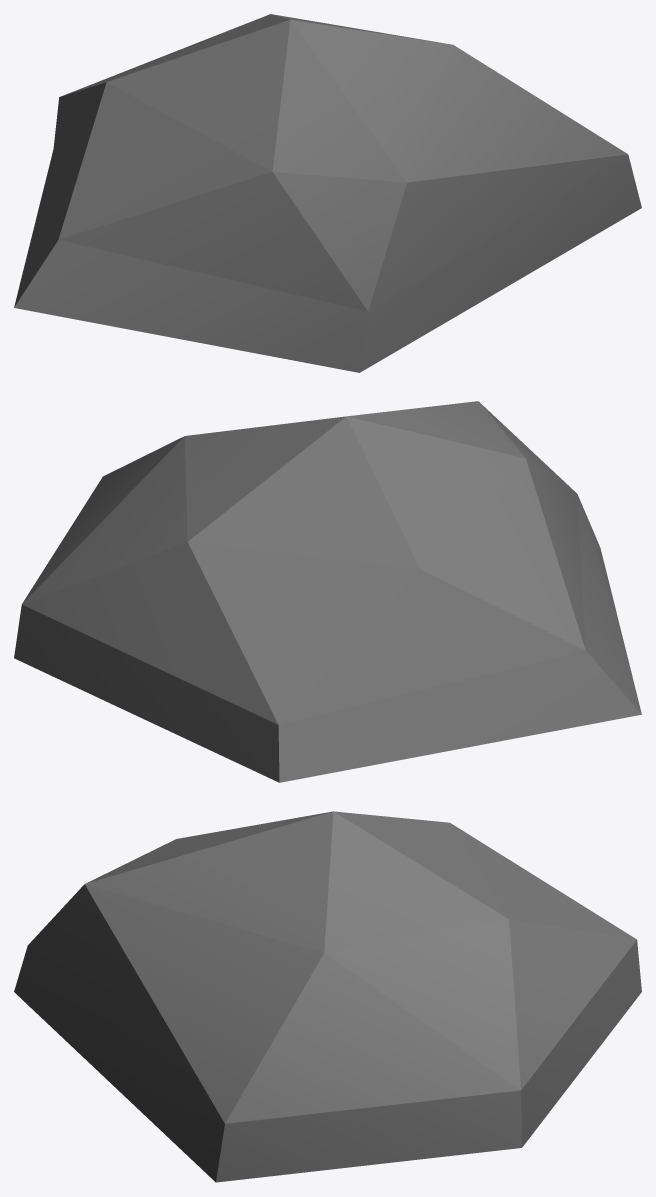
Rendered from stone_1.glb.
3 views of the same model, one above another, from view 1: azimuth 30°, elevation 25°; view 2: azimuth 150°, elevation 25°; view 3: azimuth 270°, elevation 25° (orthographic). The views are drawn at different scales.
Parts seen in each view (by area): view 1: stone_1; view 2: stone_1; view 3: stone_1.
Boxes of the visible parts, <box> form: stone_1: <box>14,14,641,372</box>; stone_1: <box>14,401,641,782</box>; stone_1: <box>14,811,641,1182</box>.
Size of the model in its own units: 0.6644 by 0.2416 by 0.6143.
1 material, 1 textured.
